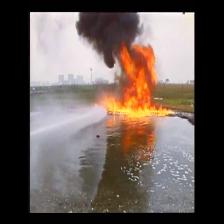fire: (108, 50, 174, 116)
smoke: (79, 13, 141, 48)
